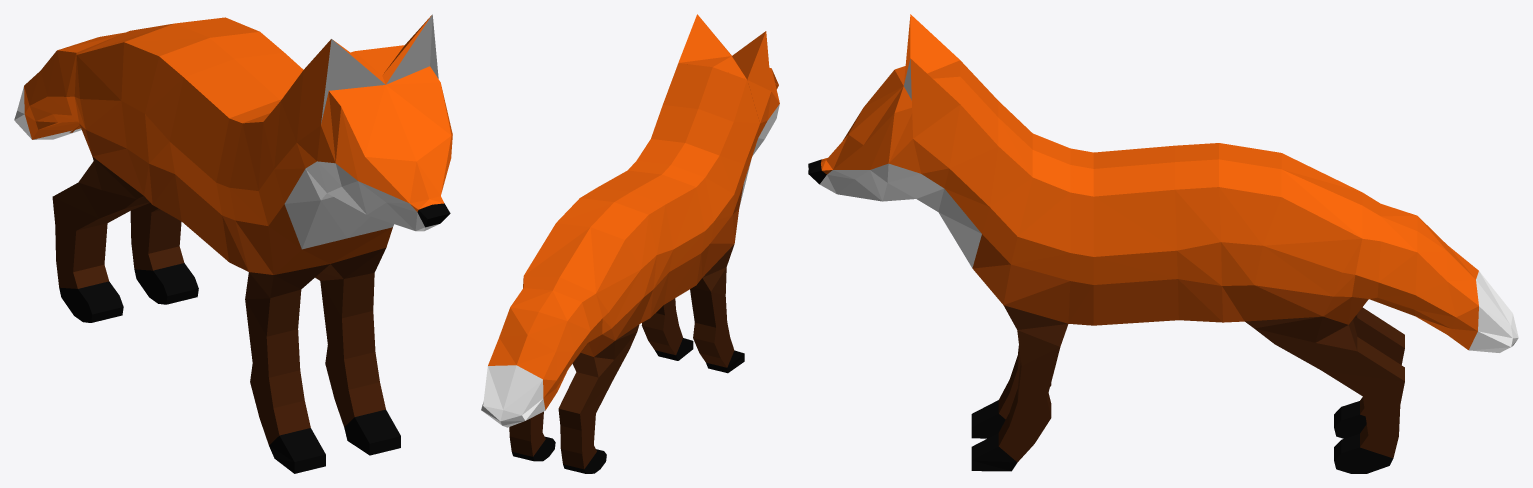
File: LowpolyFox-ling.fbx
The picture shows the model from 3 angles, left to right: view 1: azimuth 30°, elevation 25°; view 2: azimuth 150°, elevation 25°; view 3: azimuth 270°, elevation 25°; orthographic projection. The views are drawn at different scales.
Visible parts, largest first — view 1: Plane; view 2: Plane; view 3: Plane.
Part boxes in pixels (left/top/right/bottom): Plane: left=14, top=14, right=452, bottom=473; Plane: left=481, top=14, right=779, bottom=473; Plane: left=808, top=14, right=1518, bottom=473.
Bounding box in the file's own units: 36.13 × 125 × 195.
